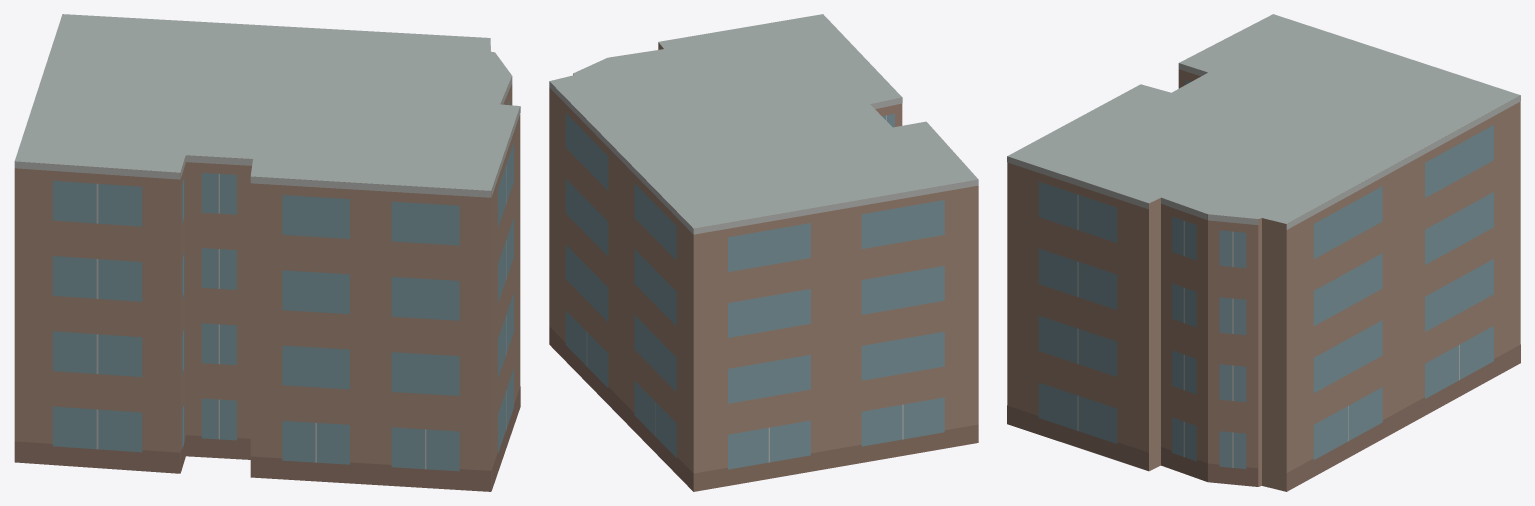
File: survey-upis-32696097.glb
3 renders of one model, left to right at view 1: azimuth 30°, elevation 25°; view 2: azimuth 150°, elevation 25°; view 3: azimuth 270°, elevation 25°, orthographic. The views are drawn at different scales.
Visible parts, largest first — view 1: survey-upis-32696097.tmp; view 2: survey-upis-32696097.tmp; view 3: survey-upis-32696097.tmp.
Boxes of the visible parts, bbox=[...] form: survey-upis-32696097.tmp: bbox=[14, 14, 520, 491]; survey-upis-32696097.tmp: bbox=[549, 14, 978, 491]; survey-upis-32696097.tmp: bbox=[1007, 14, 1520, 491].
Bounding box in the file's own units: 17.91 × 10.65 × 18.51.
